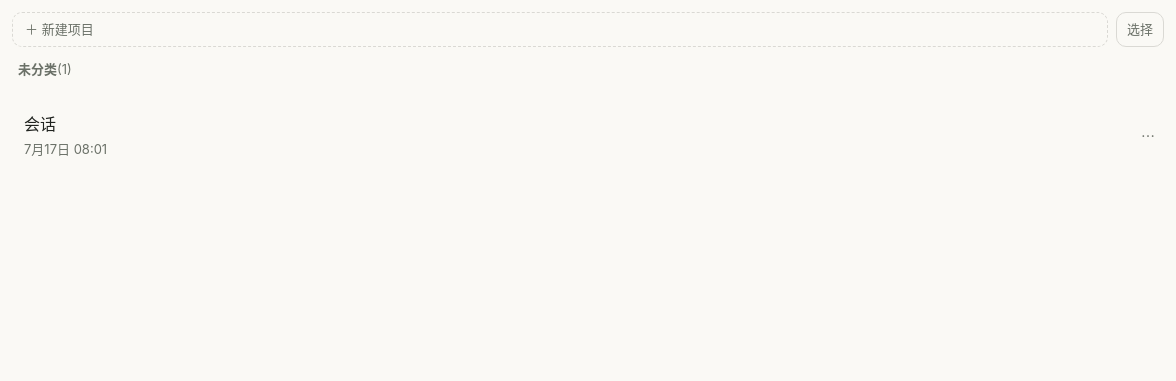
SessionListPanel 会话分组树 › 会话菜单：删除需确认，确认后软删并广播
Click the button named "会话 的菜单" at (1148, 136), box [1136, 124, 1160, 148]
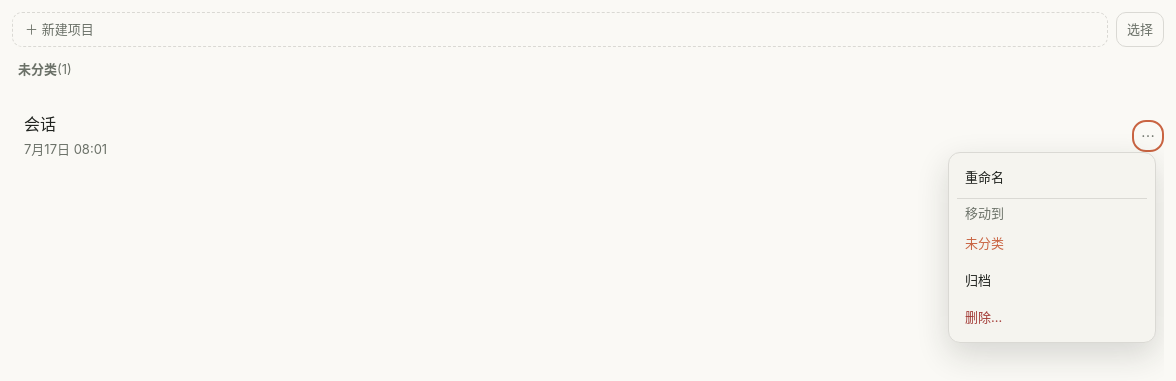
Click the menu item "删除…" at (1052, 317), box [957, 301, 1147, 334]
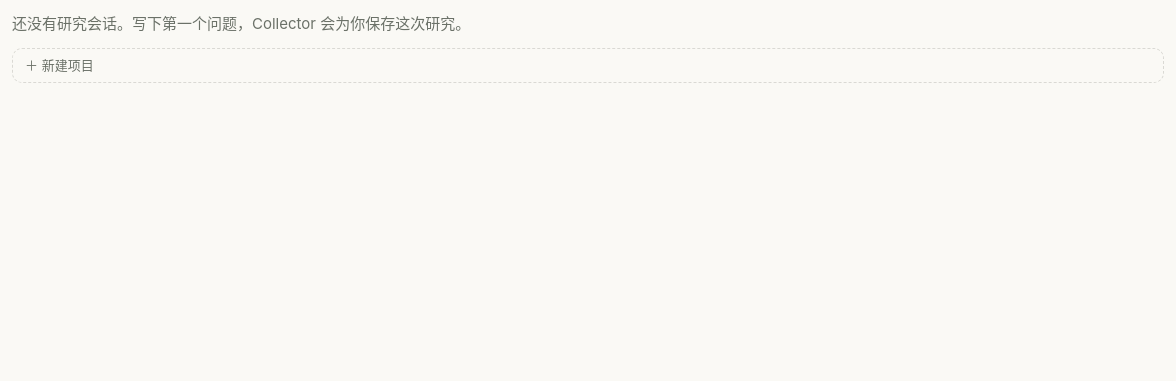
Check: the text "还没有研究会话。写下第一个问题，Collector 会为你保存这次研究。" is shown, box [12, 14, 470, 33]
